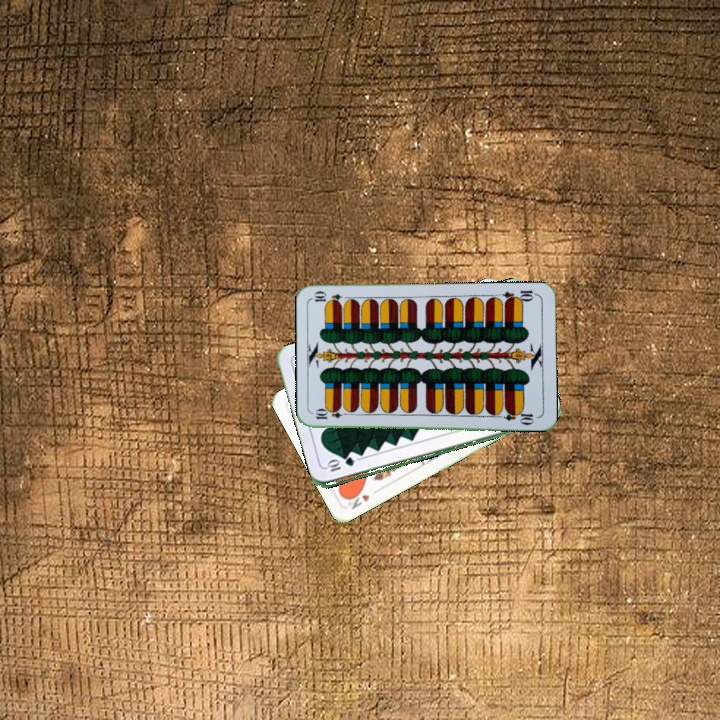E10: (499, 286, 540, 305), (311, 408, 352, 422)
G10: (323, 455, 358, 474)
HK: (341, 486, 372, 512)
